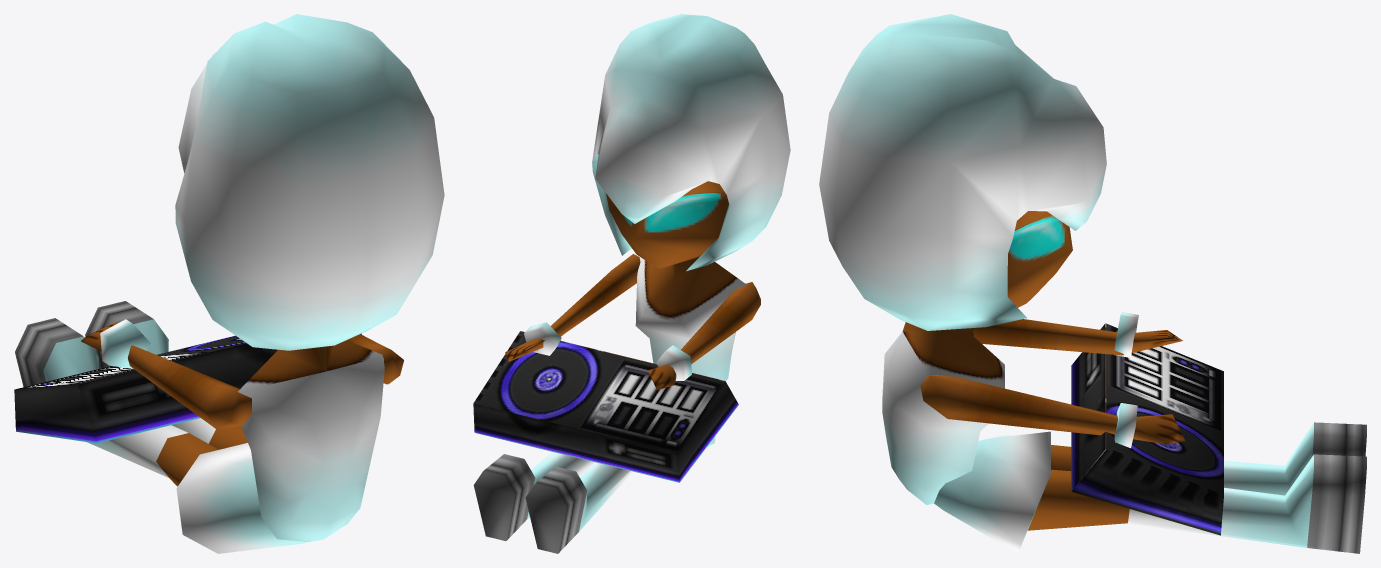
Rendered from 2DXICON.ico.obj.
3 views of the same model, side by side, from view 1: azimuth 30°, elevation 25°; view 2: azimuth 150°, elevation 25°; view 3: azimuth 270°, elevation 25° (orthographic). The views are drawn at different scales.
Size of the model in its own units: 2.34 by 4.34 by 4.28.
1 material, 1 textured.
